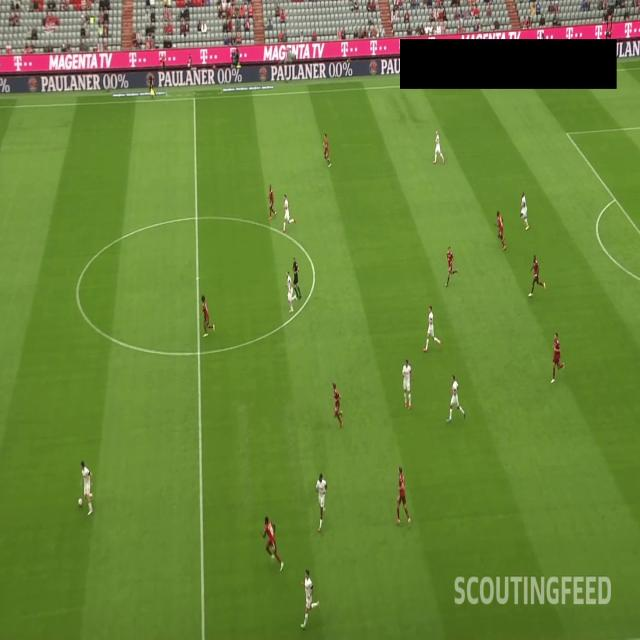ball: (76, 493, 83, 508)
player: (257, 510, 285, 570), (299, 565, 321, 630), (394, 463, 412, 527), (421, 301, 443, 353), (549, 328, 568, 386), (446, 371, 466, 423), (78, 456, 94, 518), (198, 291, 216, 340), (313, 469, 327, 532), (528, 251, 547, 296), (329, 378, 344, 429), (283, 265, 298, 315), (281, 192, 298, 236), (444, 242, 460, 288), (492, 206, 508, 252), (401, 356, 414, 412), (431, 127, 446, 165), (519, 190, 530, 232), (322, 130, 333, 170), (267, 182, 278, 220)
referee: (289, 255, 303, 300), (145, 73, 158, 103)
